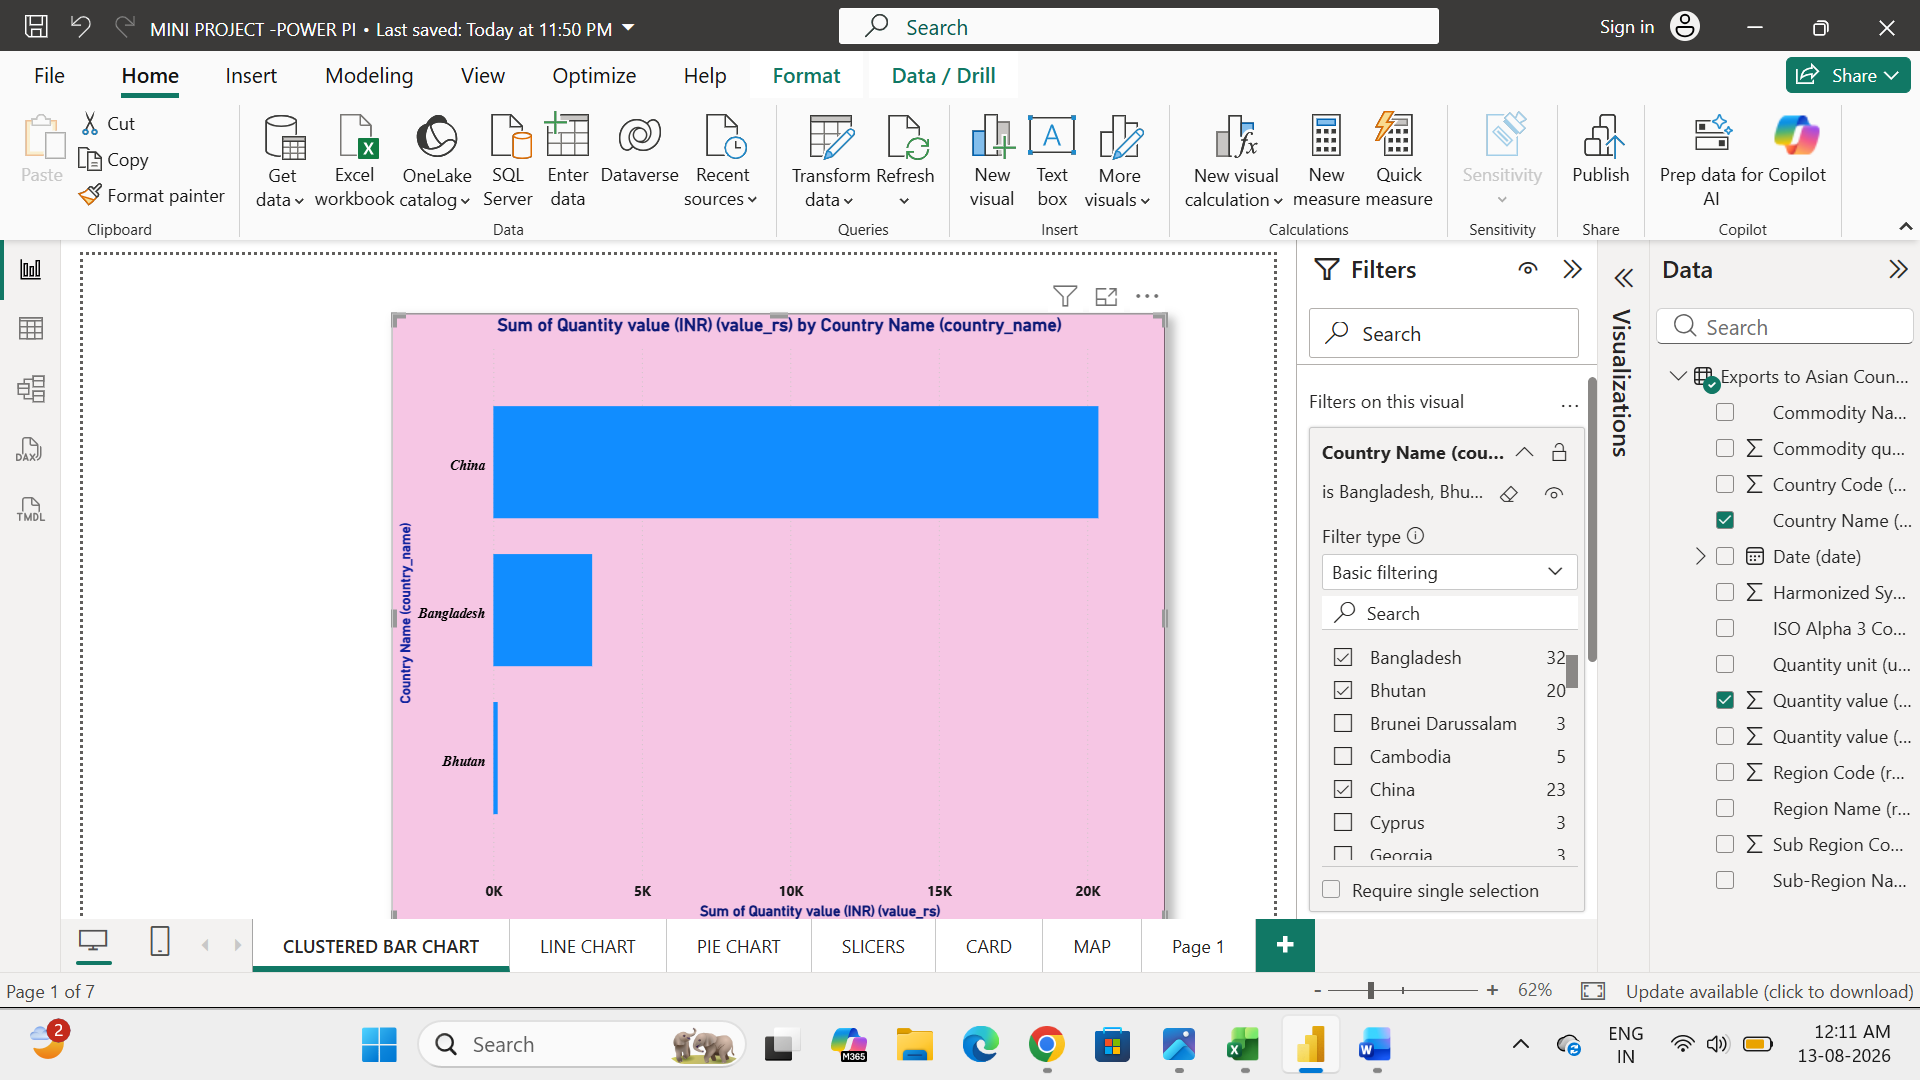

This screenshot's page, from the dashboard's own definition file:
{"tool":"powerbi","page":{"name":"CLUSTERED BAR CHART","canvas":[1280,720],"ordinal":0},"visuals":[{"type":"barChart","fields":{"Category":["Exports to Asian Countries_Samp.Country Name (country_name)"],"Y":["Sum(Exports to Asian Countries_Samp.Quantity value (INR) (value_rs))"]},"box":[332.6,62.4,831.5,657.6],"z":0}]}

Visuals, with their boxes on the page's 1280x720 design canvas (x1, y1, x2, y2). These are canvas units, not pixel positions in the 1920x1080 screenshot, which may show the page scaled, cropped or inside an application window:
barChart - Exports to Asian Countries_Samp.Country Name (country_name) x Sum(Exports to Asian Countries_Samp.Quantity value (INR) (value_rs)): 333,62,1164,720
